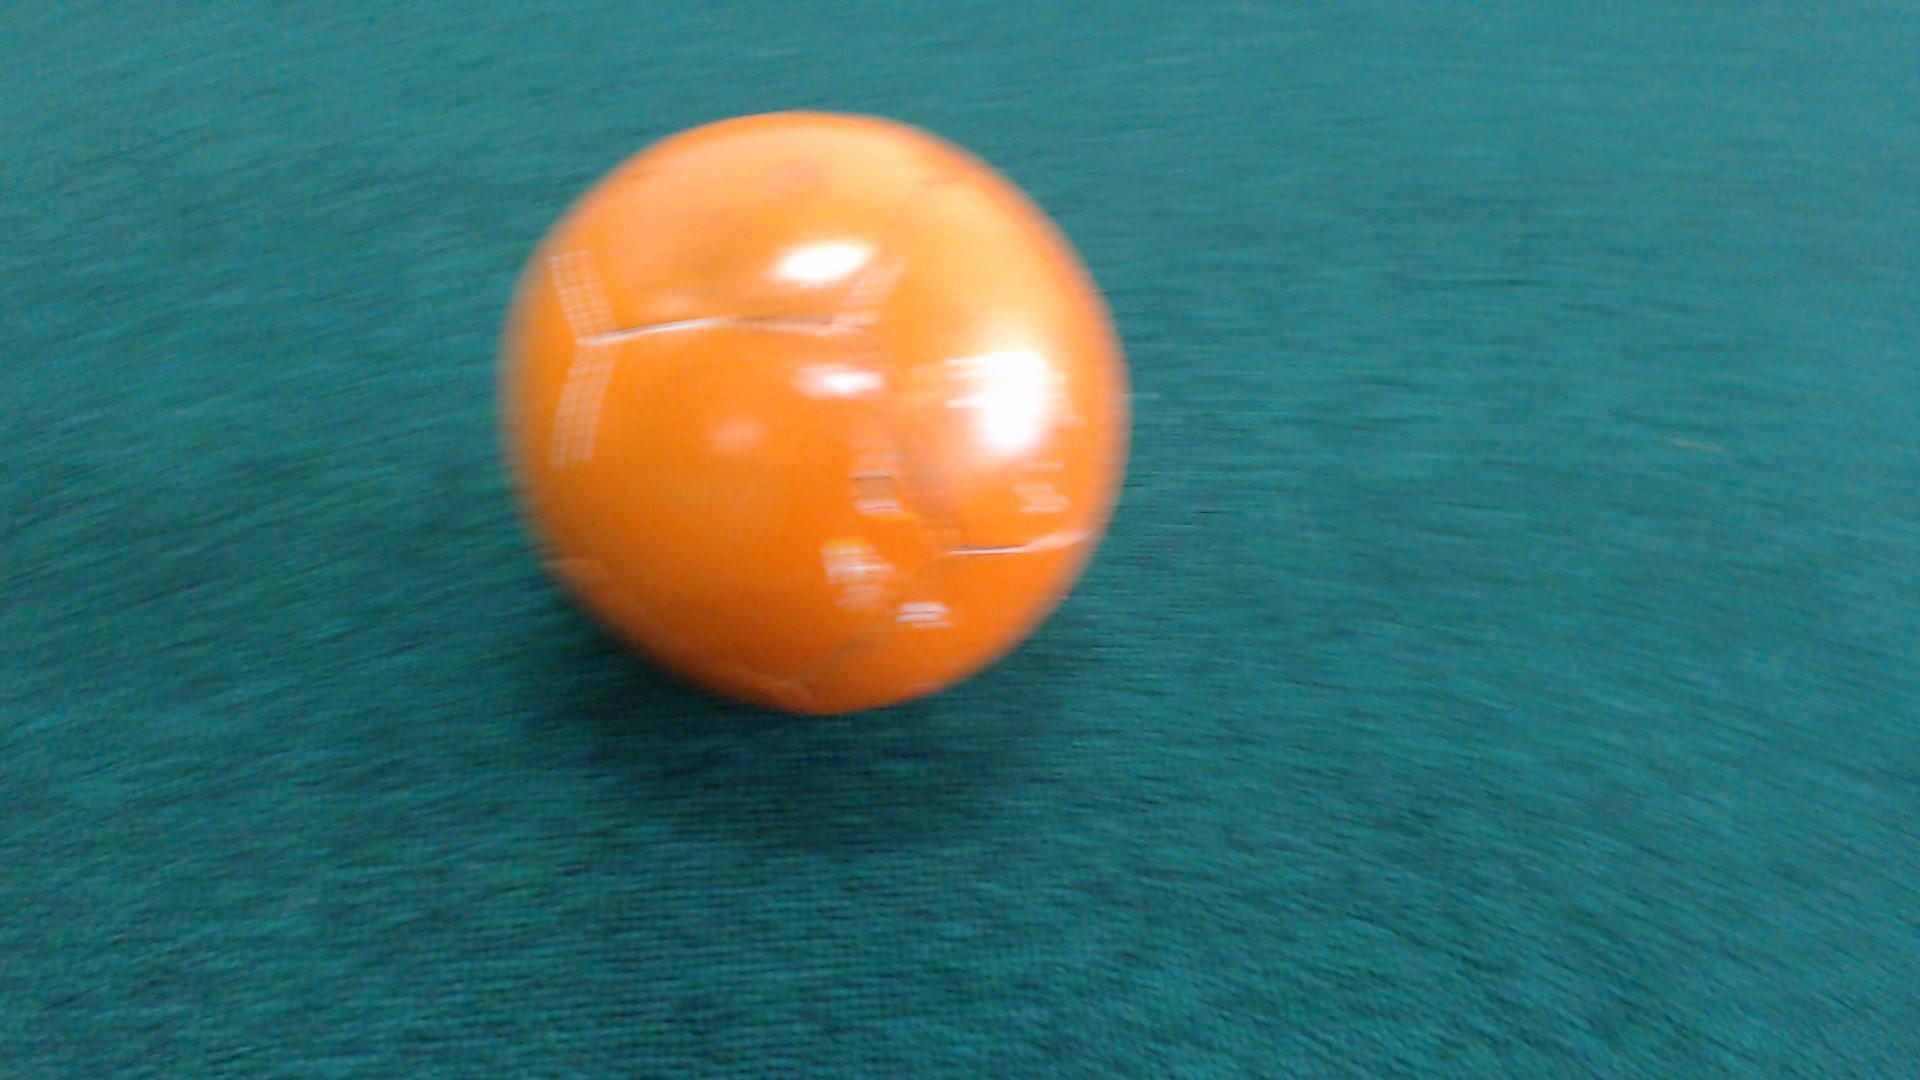bola: (488, 95, 1170, 737)
